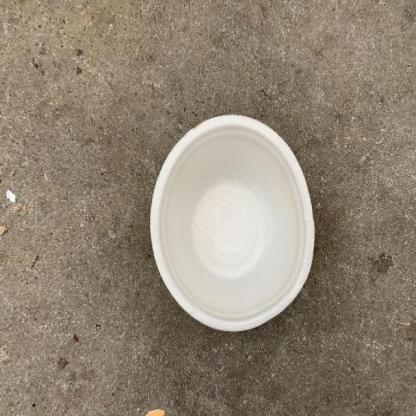Glass Cup: (150, 112, 317, 332), (151, 115, 315, 331)
